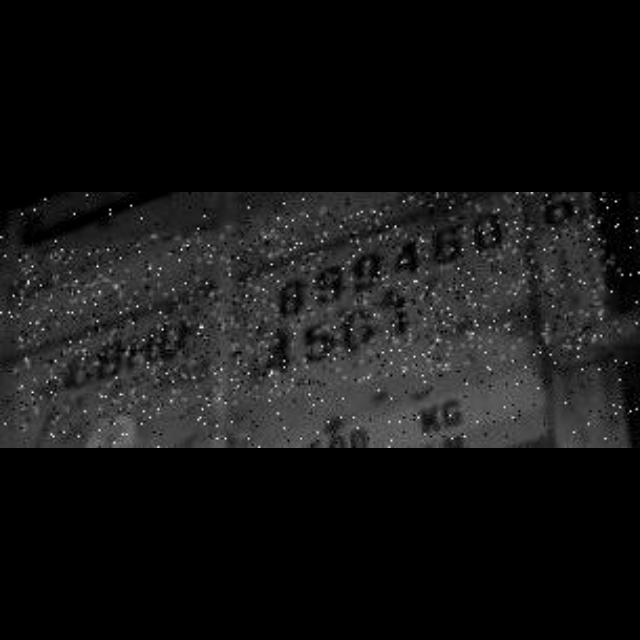1: (379, 290, 413, 344)
4: (261, 326, 297, 374), (391, 232, 423, 280)
5: (305, 314, 339, 370)
6: (342, 306, 373, 354)
8: (428, 216, 468, 266), (469, 210, 505, 258), (536, 192, 580, 230), (274, 274, 308, 316)
9: (349, 247, 386, 295), (312, 260, 348, 308)
b: (97, 336, 125, 384)
g: (436, 392, 470, 428)
h: (126, 331, 156, 375)
l: (57, 347, 95, 393)
m: (418, 404, 440, 436)
u: (160, 320, 190, 366)
